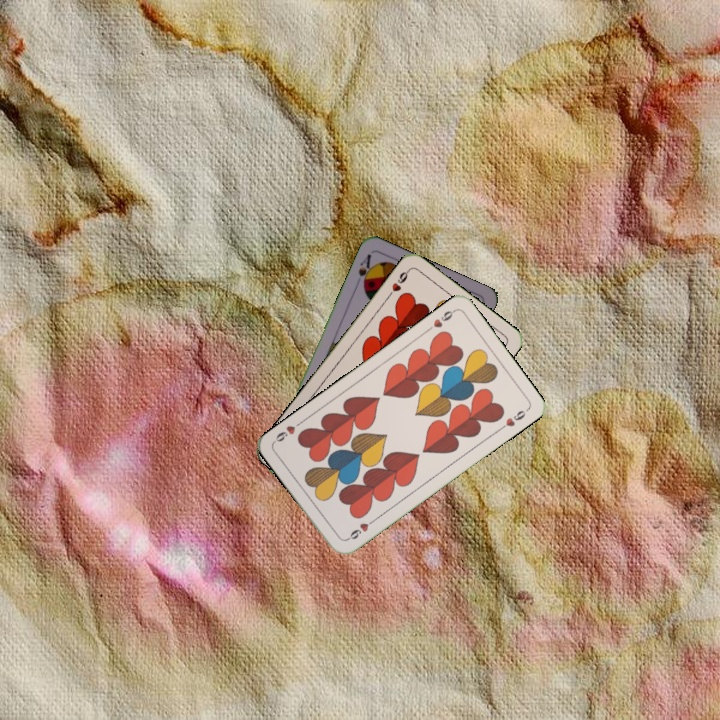H9: (383, 266, 412, 301), (423, 305, 458, 334), (342, 515, 378, 543)
SA: (354, 250, 376, 291)
